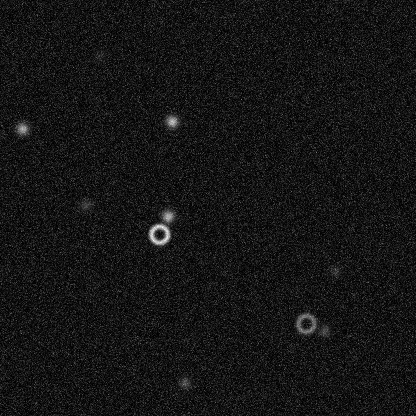Ring: (293, 311, 317, 335), (147, 222, 171, 246)
Spot: (92, 47, 108, 63), (163, 113, 179, 129), (327, 262, 343, 278), (316, 322, 332, 338), (176, 374, 192, 390), (77, 196, 93, 212), (14, 120, 30, 136), (159, 208, 175, 224)
